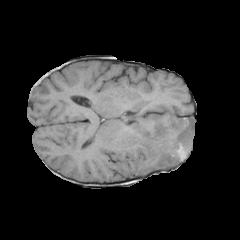glioma: (138, 112, 196, 167)
